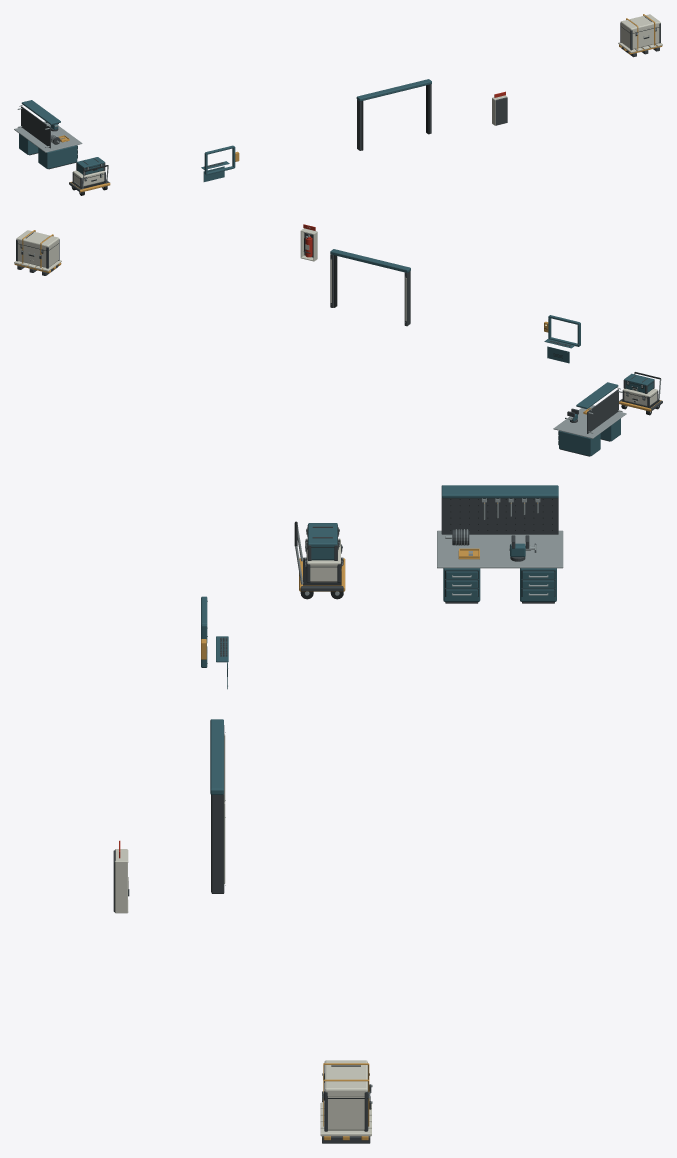
File: station-props.glb
The picture shows the model from 3 angles, top to bottom: view 1: azimuth 30°, elevation 25°; view 2: azimuth 150°, elevation 25°; view 3: azimuth 270°, elevation 25°; orthographic projection. The views are drawn at different scales.
Visible parts, largest first — view 1: StationProps_Petrol, StationProps_DarkSteel, StationProps_Ivory, StationProps_Steel, StationProps_Rubber, StationProps_Ochre; view 2: StationProps_Petrol, StationProps_Ivory, StationProps_DarkSteel, StationProps_Steel, StationProps_Rubber, StationProps_Ochre; view 3: StationProps_DarkSteel, StationProps_Petrol, StationProps_Ivory, StationProps_Steel, StationProps_Rubber, StationProps_Ochre.
Part boxes in pixels (box(x1,y1,x2,y2)): StationProps_Petrol: box(19, 79, 431, 181); StationProps_DarkSteel: box(21, 16, 660, 191); StationProps_Ivory: box(73, 14, 662, 186); StationProps_Steel: box(14, 28, 656, 193); StationProps_Rubber: box(71, 26, 658, 195); StationProps_Ochre: box(58, 14, 662, 192); StationProps_Petrol: box(330, 249, 654, 456); StationProps_Ivory: box(14, 227, 657, 405); StationProps_DarkSteel: box(16, 228, 662, 456); StationProps_Steel: box(21, 234, 661, 438); StationProps_Rubber: box(18, 235, 660, 444); StationProps_Ochre: box(14, 230, 662, 414); StationProps_DarkSteel: box(113, 498, 558, 1143); StationProps_Petrol: box(201, 485, 558, 794); StationProps_Ivory: box(115, 538, 371, 1136); StationProps_Steel: box(207, 498, 563, 1103); StationProps_Rubber: box(207, 499, 555, 1102); StationProps_Ochre: box(201, 503, 537, 1140).
Bounding box in the file's own units: 39.75 × 3.4 × 13.15.
